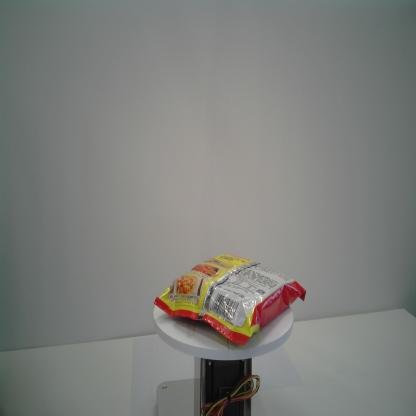Instant Noodles: (152, 252, 308, 348)
